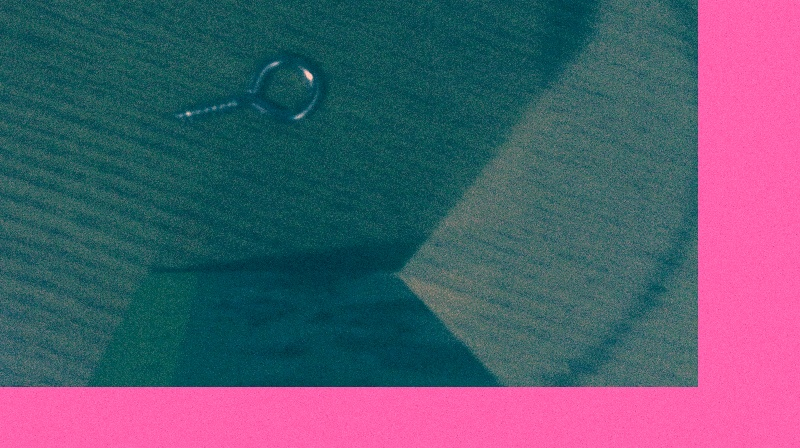O001: (164, 50, 327, 133)
